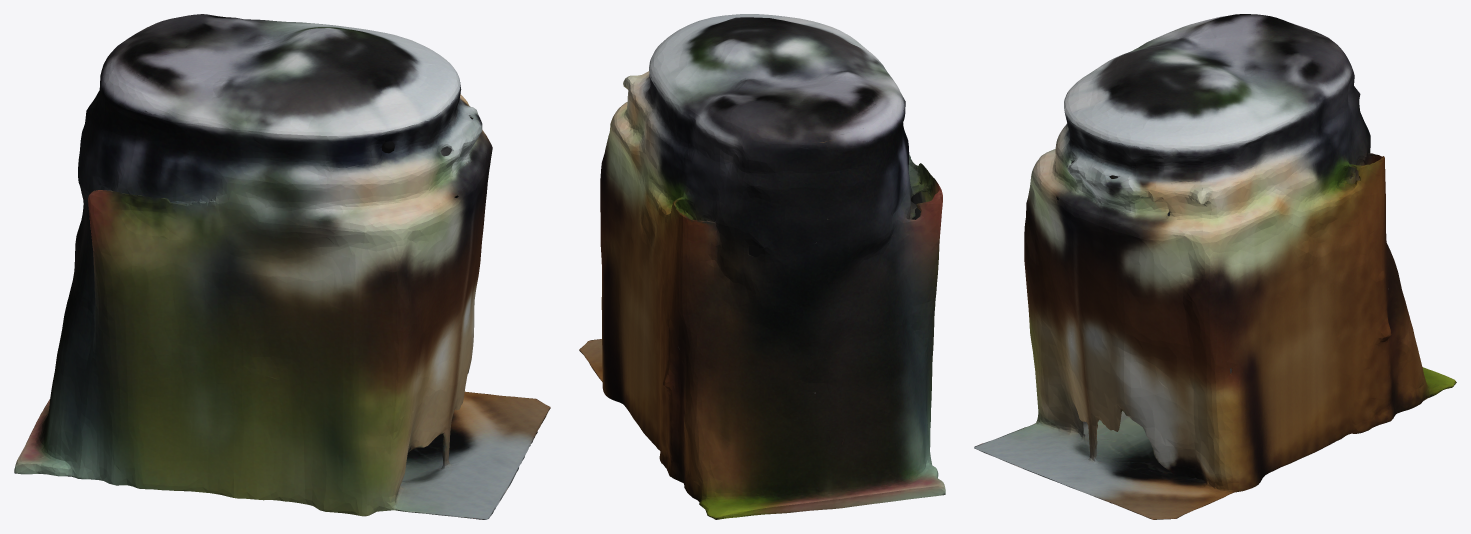
The model's file is trellis_result.glb.
3 renders of one model, left to right at view 1: azimuth 30°, elevation 25°; view 2: azimuth 150°, elevation 25°; view 3: azimuth 270°, elevation 25°, orthographic. The views are drawn at different scales.
Visible parts, largest first — view 1: world; view 2: world; view 3: world.
Boxes of the visible parts, x1,y1,x2,y2 form: world: [14, 14, 550, 519]; world: [579, 14, 945, 519]; world: [974, 14, 1456, 519].
Bounding box in the file's own units: 0.998 × 0.8318 × 0.9965.
1 material, 1 textured.
